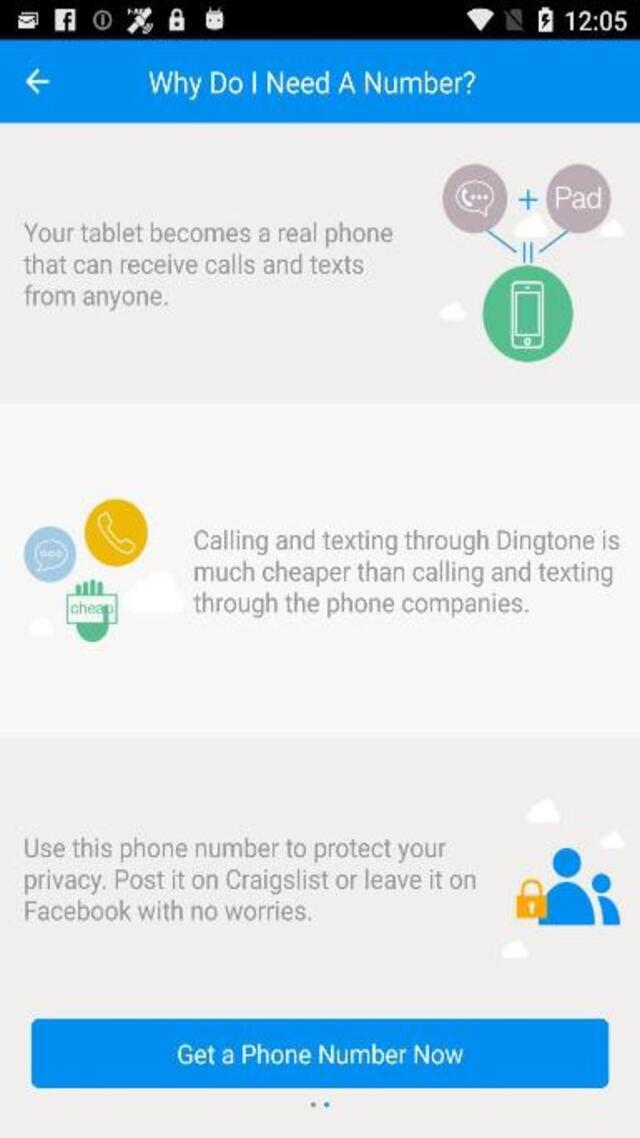Icon: (24, 69, 49, 94)
Image: (442, 164, 625, 362), (22, 497, 185, 645), (502, 798, 622, 956)
Text: (18, 864, 482, 896), (187, 560, 616, 592), (188, 528, 620, 557), (20, 249, 368, 280), (22, 838, 446, 863), (187, 591, 539, 620), (150, 70, 476, 100), (22, 221, 397, 247), (20, 898, 317, 928), (174, 1042, 468, 1067), (22, 283, 176, 313)
TextButton: (30, 1018, 608, 1087)
